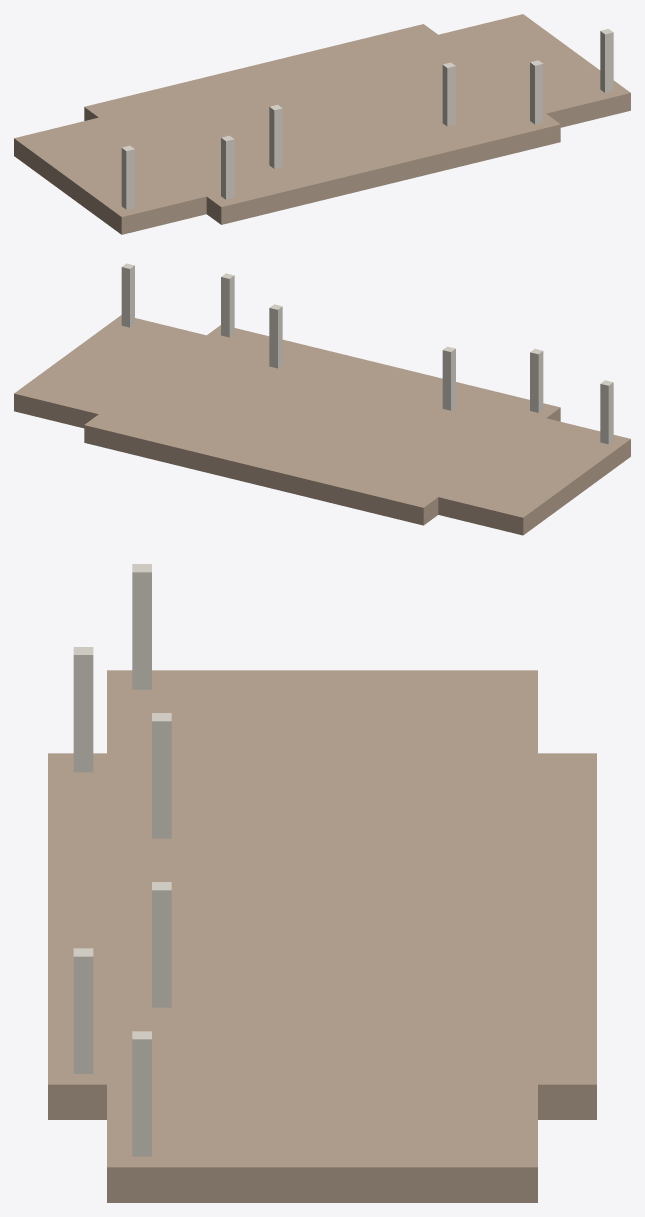
File: MOD_DECK_TIMBER_COASTAL_001_LOD_CLOSE.glb
The picture shows the model from 3 angles, top to bottom: view 1: azimuth 30°, elevation 25°; view 2: azimuth 150°, elevation 25°; view 3: azimuth 270°, elevation 25°; orthographic projection. The views are drawn at different scales.
Visible parts, largest first — view 1: MOD_DECK_TIMBER_COASTAL_001_MEDIUM_DECK_CLOSE_PLATFORM, MOD_DECK_TIMBER_COASTAL_001_WRAP_DECK_CLOSE_PLATFORM, MOD_DECK_TIMBER_COASTAL_001_SMALL_DECK_CLOSE_PLATFORM, MOD_DECK_TIMBER_COASTAL_001_SMALL_DECK_CLOSE_POST_01, MOD_DECK_TIMBER_COASTAL_001_SMALL_DECK_CLOSE_POST_02, MOD_DECK_TIMBER_COASTAL_001_WRAP_DECK_CLOSE_POST_02, MOD_DECK_TIMBER_COASTAL_001_MEDIUM_DECK_CLOSE_POST_01, MOD_DECK_TIMBER_COASTAL_001_MEDIUM_DECK_CLOSE_POST_02, MOD_DECK_TIMBER_COASTAL_001_WRAP_DECK_CLOSE_POST_01; view 2: MOD_DECK_TIMBER_COASTAL_001_WRAP_DECK_CLOSE_PLATFORM, MOD_DECK_TIMBER_COASTAL_001_MEDIUM_DECK_CLOSE_PLATFORM, MOD_DECK_TIMBER_COASTAL_001_SMALL_DECK_CLOSE_POST_01, MOD_DECK_TIMBER_COASTAL_001_SMALL_DECK_CLOSE_POST_02, MOD_DECK_TIMBER_COASTAL_001_WRAP_DECK_CLOSE_POST_01, MOD_DECK_TIMBER_COASTAL_001_MEDIUM_DECK_CLOSE_POST_02, MOD_DECK_TIMBER_COASTAL_001_MEDIUM_DECK_CLOSE_POST_01, MOD_DECK_TIMBER_COASTAL_001_WRAP_DECK_CLOSE_POST_02; view 3: MOD_DECK_TIMBER_COASTAL_001_WRAP_DECK_CLOSE_PLATFORM, MOD_DECK_TIMBER_COASTAL_001_MEDIUM_DECK_CLOSE_PLATFORM, MOD_DECK_TIMBER_COASTAL_001_SMALL_DECK_CLOSE_PLATFORM, MOD_DECK_TIMBER_COASTAL_001_MEDIUM_DECK_CLOSE_POST_02, MOD_DECK_TIMBER_COASTAL_001_MEDIUM_DECK_CLOSE_POST_01, MOD_DECK_TIMBER_COASTAL_001_SMALL_DECK_CLOSE_POST_01, MOD_DECK_TIMBER_COASTAL_001_SMALL_DECK_CLOSE_POST_02, MOD_DECK_TIMBER_COASTAL_001_WRAP_DECK_CLOSE_POST_01, MOD_DECK_TIMBER_COASTAL_001_WRAP_DECK_CLOSE_POST_02.
Boxes of the visible parts, bbox=[...] form: MOD_DECK_TIMBER_COASTAL_001_MEDIUM_DECK_CLOSE_PLATFORM: bbox=[84, 24, 560, 224]; MOD_DECK_TIMBER_COASTAL_001_WRAP_DECK_CLOSE_PLATFORM: bbox=[14, 14, 630, 234]; MOD_DECK_TIMBER_COASTAL_001_SMALL_DECK_CLOSE_PLATFORM: bbox=[179, 55, 442, 175]; MOD_DECK_TIMBER_COASTAL_001_SMALL_DECK_CLOSE_POST_01: bbox=[269, 104, 282, 168]; MOD_DECK_TIMBER_COASTAL_001_SMALL_DECK_CLOSE_POST_02: bbox=[442, 62, 455, 126]; MOD_DECK_TIMBER_COASTAL_001_WRAP_DECK_CLOSE_POST_02: bbox=[600, 29, 613, 92]; MOD_DECK_TIMBER_COASTAL_001_MEDIUM_DECK_CLOSE_POST_01: bbox=[221, 135, 234, 199]; MOD_DECK_TIMBER_COASTAL_001_MEDIUM_DECK_CLOSE_POST_02: bbox=[530, 60, 543, 124]; MOD_DECK_TIMBER_COASTAL_001_WRAP_DECK_CLOSE_POST_01: bbox=[121, 145, 134, 209]; MOD_DECK_TIMBER_COASTAL_001_WRAP_DECK_CLOSE_PLATFORM: bbox=[14, 315, 630, 535]; MOD_DECK_TIMBER_COASTAL_001_MEDIUM_DECK_CLOSE_PLATFORM: bbox=[84, 325, 560, 525]; MOD_DECK_TIMBER_COASTAL_001_SMALL_DECK_CLOSE_POST_01: bbox=[442, 346, 455, 410]; MOD_DECK_TIMBER_COASTAL_001_SMALL_DECK_CLOSE_POST_02: bbox=[269, 304, 282, 368]; MOD_DECK_TIMBER_COASTAL_001_WRAP_DECK_CLOSE_POST_01: bbox=[600, 380, 613, 444]; MOD_DECK_TIMBER_COASTAL_001_MEDIUM_DECK_CLOSE_POST_02: bbox=[221, 273, 234, 337]; MOD_DECK_TIMBER_COASTAL_001_MEDIUM_DECK_CLOSE_POST_01: bbox=[530, 349, 543, 412]; MOD_DECK_TIMBER_COASTAL_001_WRAP_DECK_CLOSE_POST_02: bbox=[121, 263, 134, 327]; MOD_DECK_TIMBER_COASTAL_001_WRAP_DECK_CLOSE_PLATFORM: bbox=[107, 670, 537, 1202]; MOD_DECK_TIMBER_COASTAL_001_MEDIUM_DECK_CLOSE_PLATFORM: bbox=[48, 753, 596, 1119]; MOD_DECK_TIMBER_COASTAL_001_SMALL_DECK_CLOSE_PLATFORM: bbox=[126, 819, 518, 1018]; MOD_DECK_TIMBER_COASTAL_001_MEDIUM_DECK_CLOSE_POST_02: bbox=[73, 948, 93, 1073]; MOD_DECK_TIMBER_COASTAL_001_MEDIUM_DECK_CLOSE_POST_01: bbox=[73, 647, 93, 772]; MOD_DECK_TIMBER_COASTAL_001_SMALL_DECK_CLOSE_POST_01: bbox=[152, 713, 171, 838]; MOD_DECK_TIMBER_COASTAL_001_SMALL_DECK_CLOSE_POST_02: bbox=[152, 882, 171, 1007]; MOD_DECK_TIMBER_COASTAL_001_WRAP_DECK_CLOSE_POST_01: bbox=[132, 564, 151, 689]; MOD_DECK_TIMBER_COASTAL_001_WRAP_DECK_CLOSE_POST_02: bbox=[132, 1031, 151, 1156].
Bounding box in the file's own units: 6 × 0.86 × 2.8.
